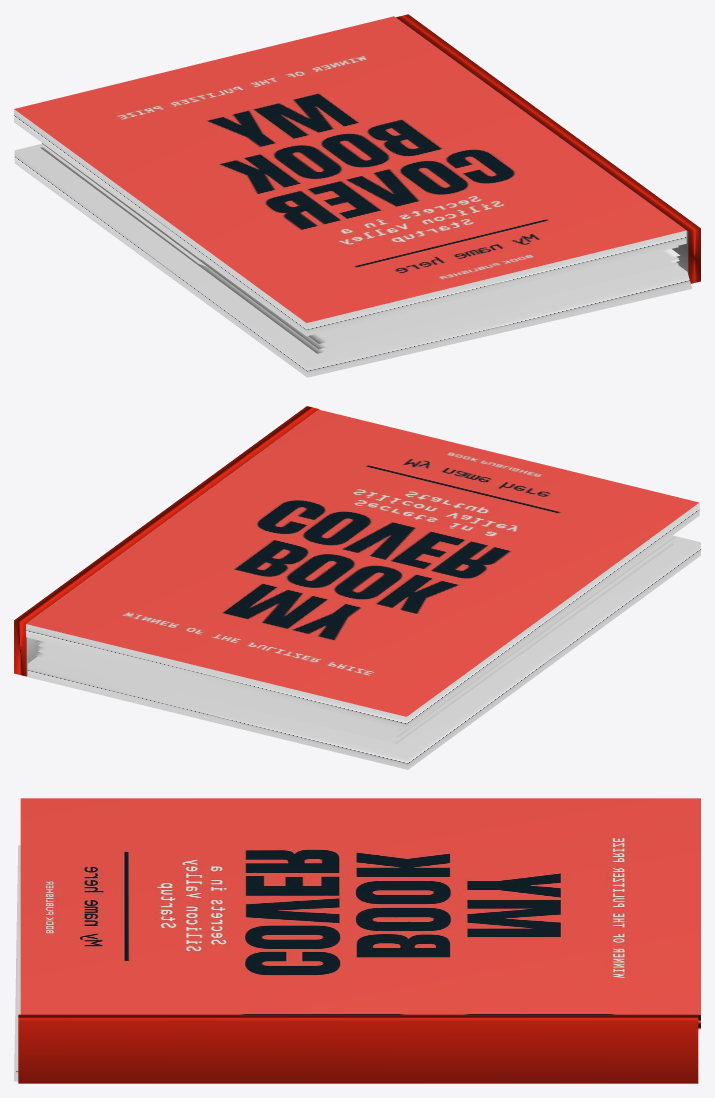
File: bookColor.glb
3 renders of one model, top to bottom at view 1: azimuth 30°, elevation 25°; view 2: azimuth 150°, elevation 25°; view 3: azimuth 270°, elevation 25°, orthographic. The views are drawn at different scales.
Parts seen in each view (by area): view 1: Cover L, Cover R, Spine, P3.front, P4.back, P3.back, P5.back, P4.front, P5.front; view 2: Cover L, Cover R, Spine, P5.front, P4.front, P5.back, P4.back, P3.front, P3.back; view 3: Cover L, Spine, Cover R.
Boxes of the visible parts, box(x1,y1,x2,y2) form: Cover L: box(14, 16, 686, 336); Cover R: box(14, 143, 692, 377); Spine: box(396, 14, 700, 283); P3.front: box(391, 249, 679, 321); P4.back: box(42, 143, 678, 349); P3.back: box(308, 256, 678, 343); P5.back: box(40, 147, 337, 353); P4.front: box(163, 231, 679, 326); P5.front: box(41, 145, 206, 266); Cover L: box(26, 409, 699, 729); Cover R: box(27, 535, 700, 769); Spine: box(14, 406, 319, 676); P5.front: box(33, 626, 552, 742); P4.front: box(35, 623, 553, 736); P5.back: box(36, 542, 673, 743); P4.back: box(38, 536, 675, 736); P3.front: box(35, 640, 398, 730); P3.back: box(38, 644, 401, 731); Cover L: box(20, 798, 700, 1029); Spine: box(18, 1014, 698, 1083); Cover R: box(14, 845, 20, 1081).
Size of the model in its own units: 1.55 by 0.2148 by 2.02.
Materials: 16 (3 with a texture image).
